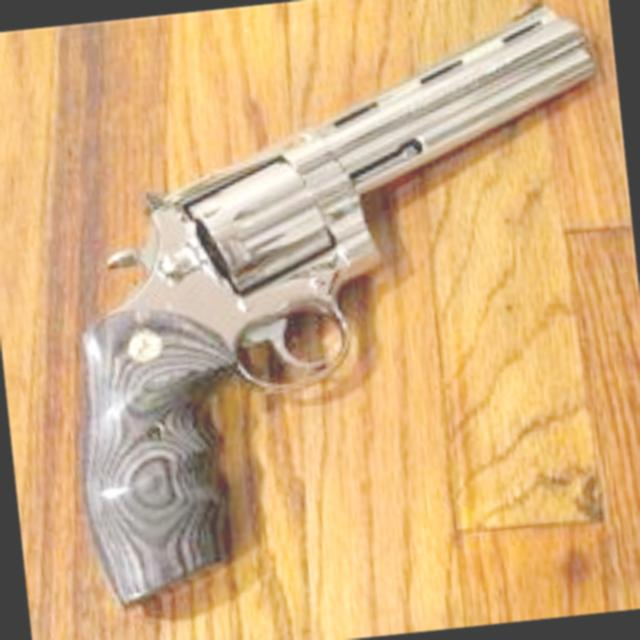revolver: (1, 0, 640, 632)
